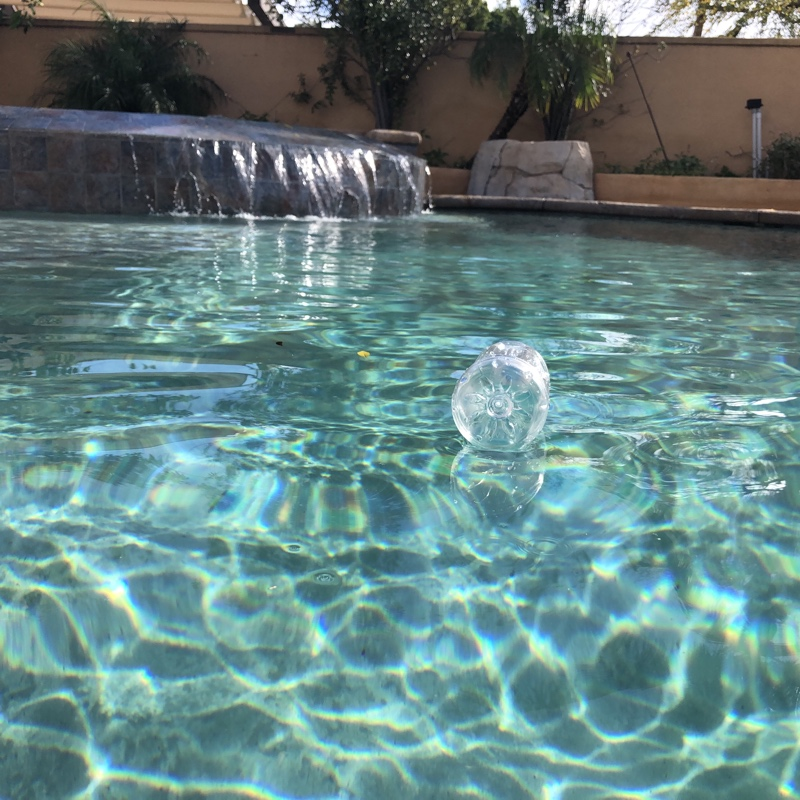Plastic Bottle: (450, 333, 555, 453)
